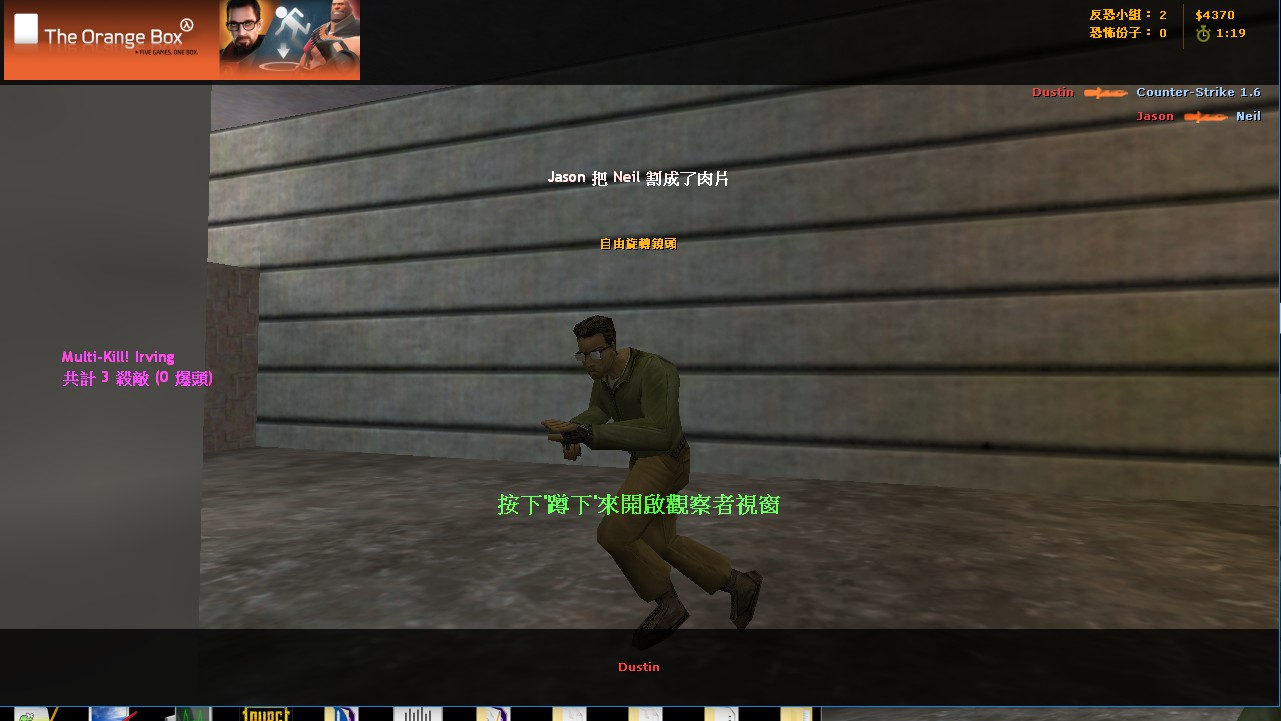person: (543, 309, 756, 628)
